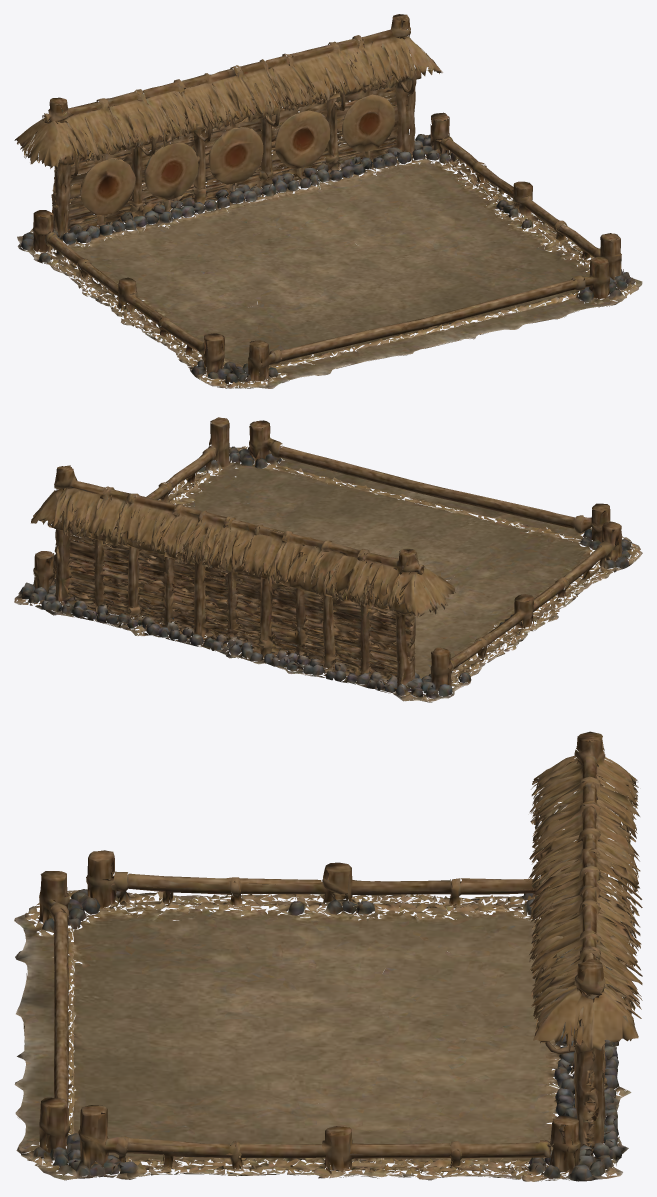
File: archery_mid.glb
3 views of the same model, one above another, from view 1: azimuth 30°, elevation 25°; view 2: azimuth 150°, elevation 25°; view 3: azimuth 270°, elevation 25° (orthographic). The views are drawn at different scales.
Visible parts, largest first — view 1: model; view 2: model; view 3: model.
Boxes of the visible parts, bbox=[...] form: model: bbox=[14, 14, 642, 388]; model: bbox=[14, 417, 642, 702]; model: bbox=[14, 731, 642, 1181].
Size of the model in its own units: 0.9978 by 0.3051 by 0.916.
1 material, 1 textured.
